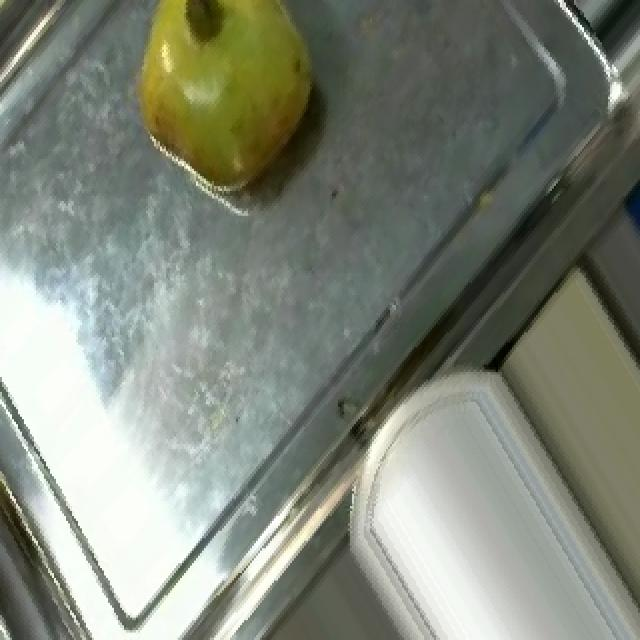fruit: (102, 0, 344, 228)
